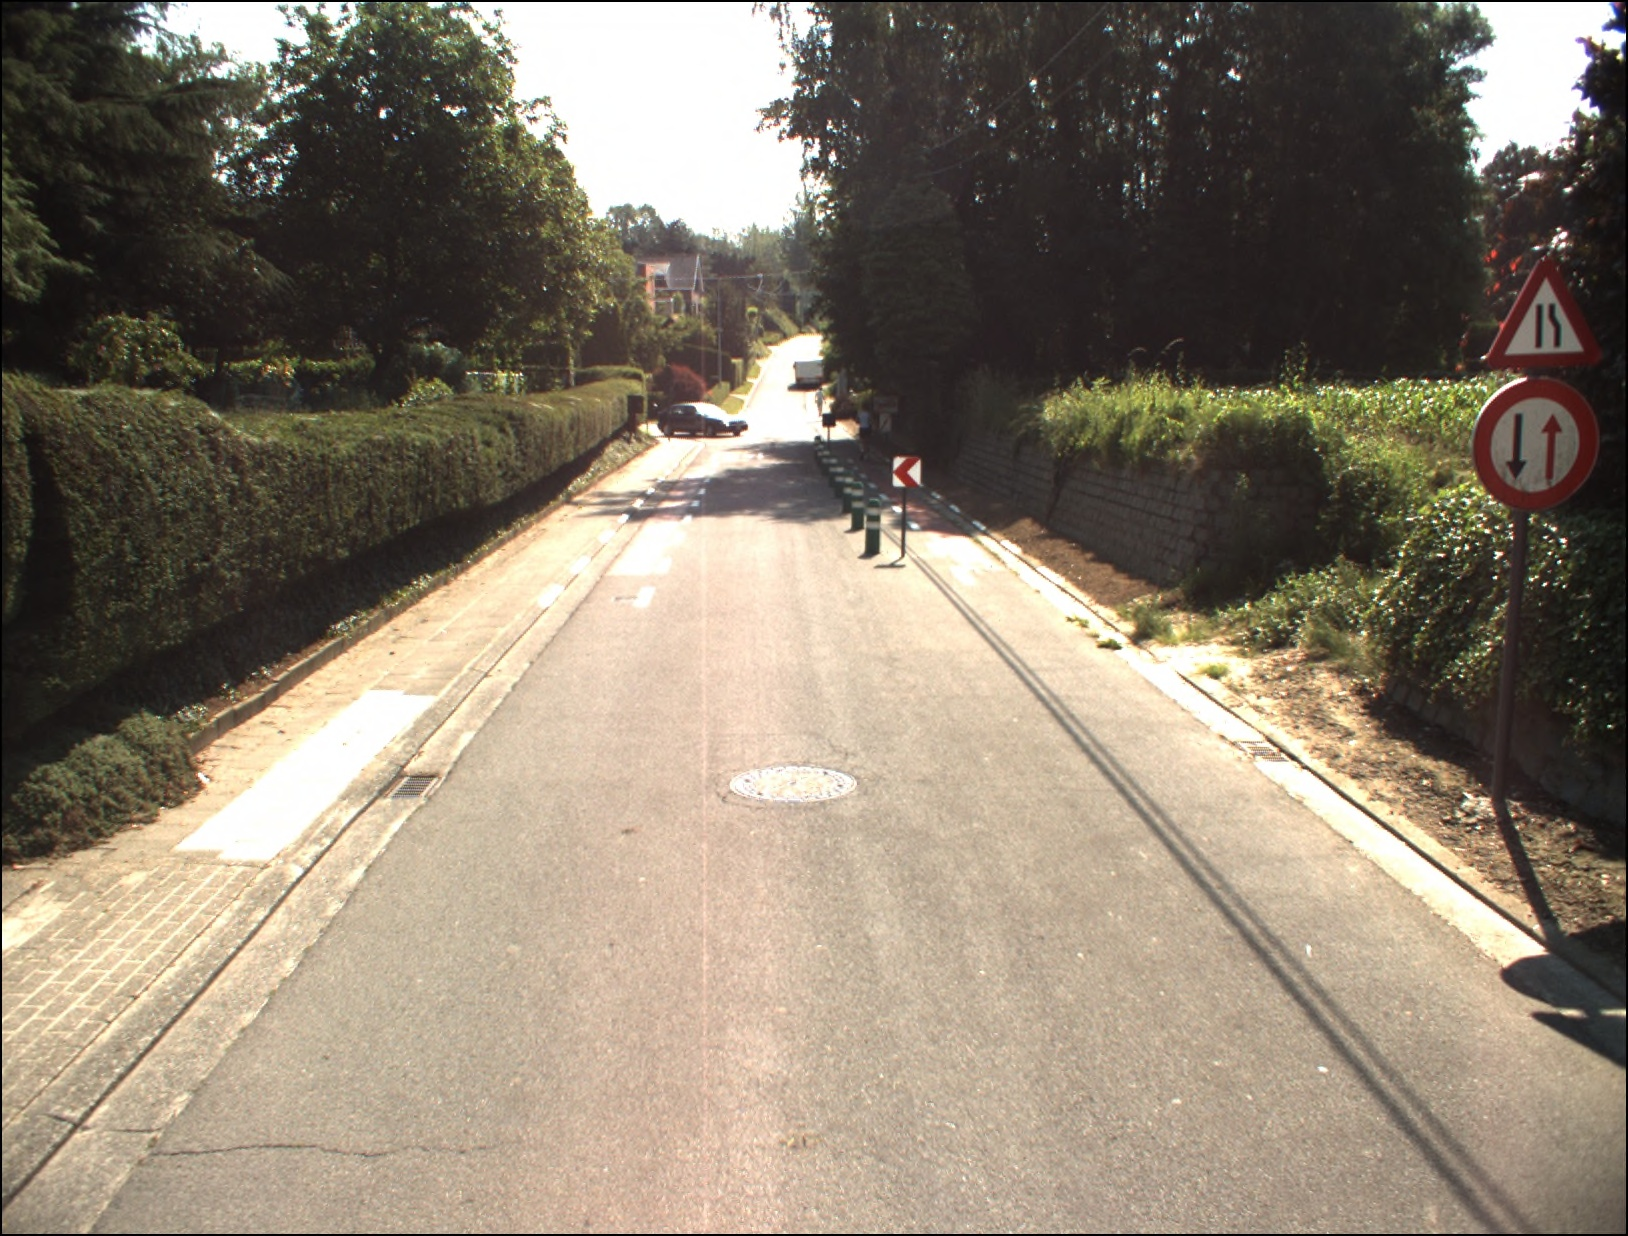roadnarrow2: (1477, 377, 1597, 508)
